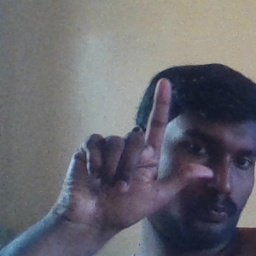L: (57, 77, 212, 229)
